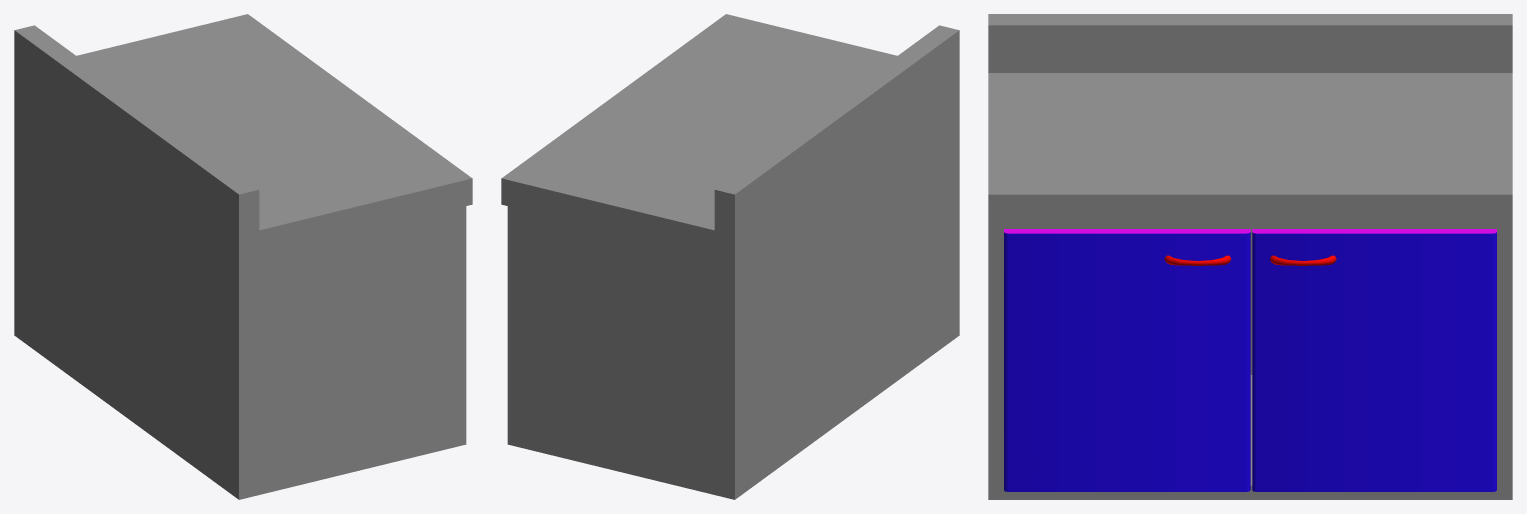
The model's file is kitchen_range.FBX.
3 views of the same model, side by side, from view 1: azimuth 30°, elevation 25°; view 2: azimuth 150°, elevation 25°; view 3: azimuth 270°, elevation 25° (orthographic). The views are drawn at different scales.
Visible parts, largest first — view 1: metal_table; view 2: metal_table; view 3: cabinet_door, metal_table.
Boxes of the visible parts, <box> form: metal_table: <box>14,14,472,499</box>; metal_table: <box>501,14,959,499</box>; cabinet_door: <box>1004,229,1496,491</box>; metal_table: <box>988,14,1512,499</box>.
Size of the model in its own units: 0.6258 by 1 by 0.75.
